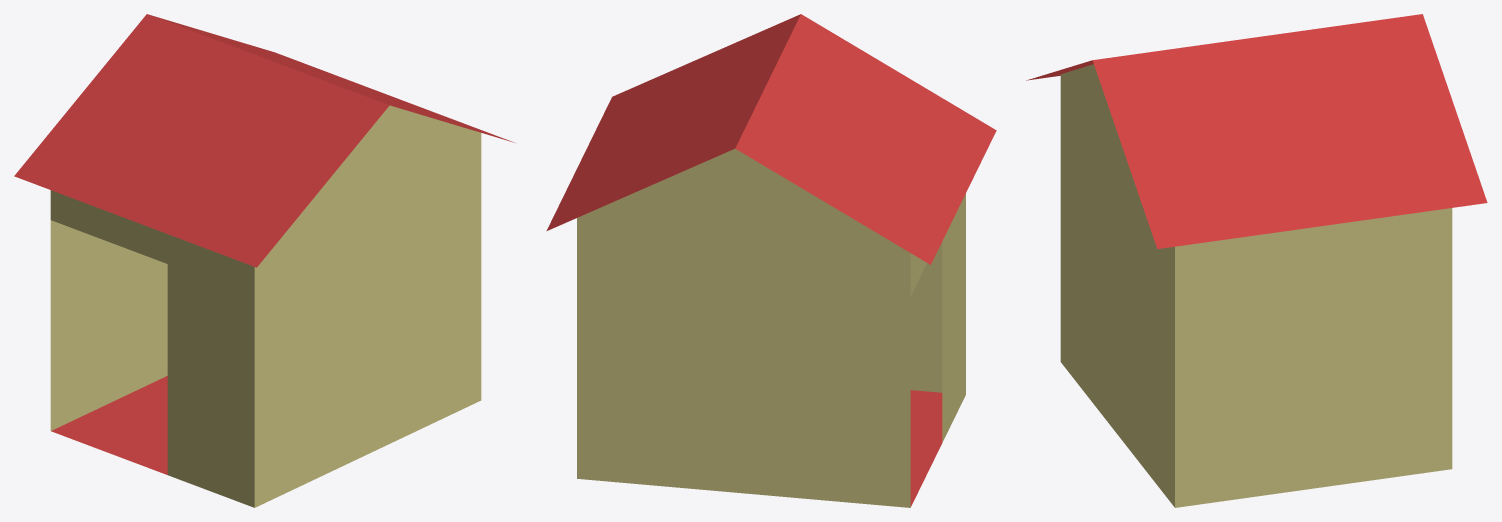
The picture shows the model from 3 angles, left to right: view 1: azimuth 30°, elevation 25°; view 2: azimuth 150°, elevation 25°; view 3: azimuth 270°, elevation 25°; orthographic projection. The views are drawn at different scales.
Bounding box in the file's own units: 13.7 × 12.46 × 11.3.
